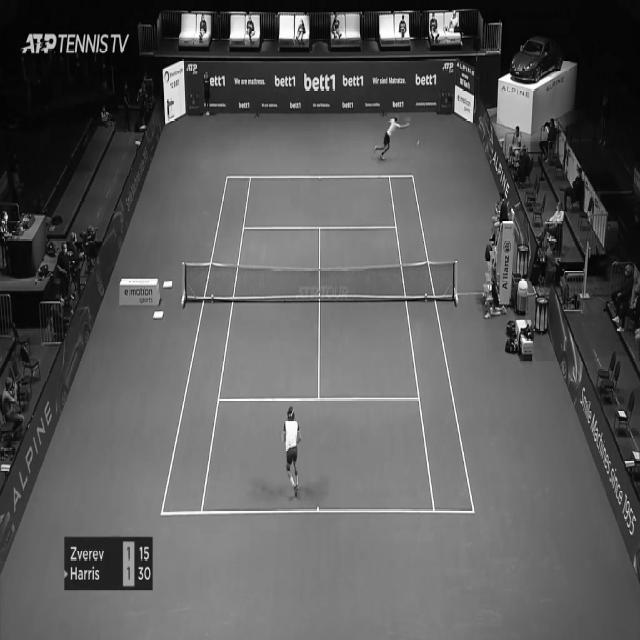tennis-court: (160, 175, 476, 516)
